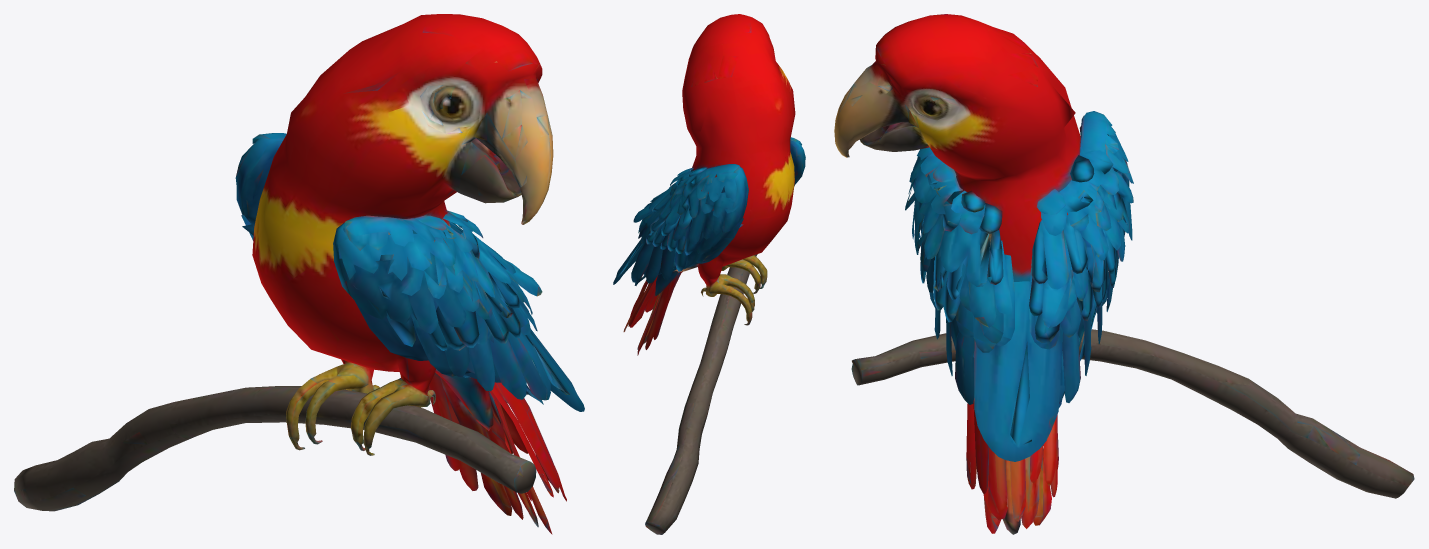
The model's file is parrot.glb.
The picture shows the model from 3 angles, left to right: view 1: azimuth 30°, elevation 25°; view 2: azimuth 150°, elevation 25°; view 3: azimuth 270°, elevation 25°; orthographic projection. The views are drawn at different scales.
Bounding box in the file's own units: 0.4971 × 0.9536 × 0.9399.
1 material, 1 textured.
